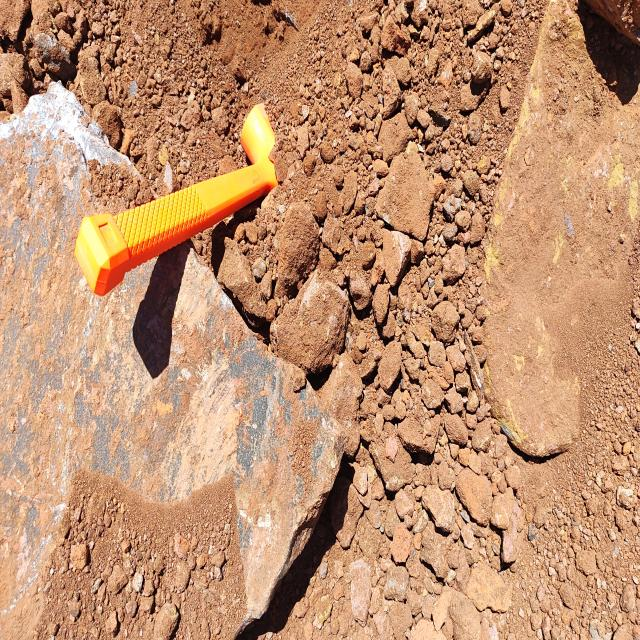Orange_hammer: (74, 101, 279, 298)
